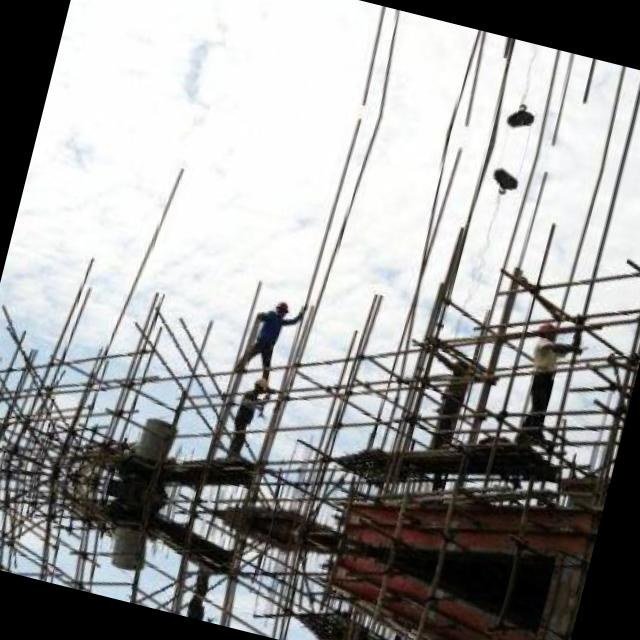helmet: (534, 317, 560, 342), (272, 296, 292, 318), (250, 372, 270, 394)
